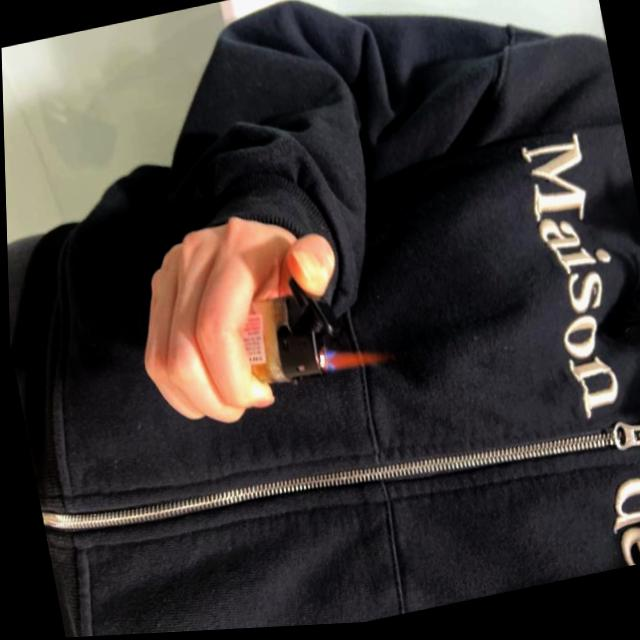helmet: (317, 333, 390, 382)
